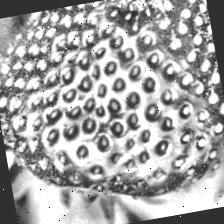Anthracnose Fruit Rot: (104, 0, 162, 31)
